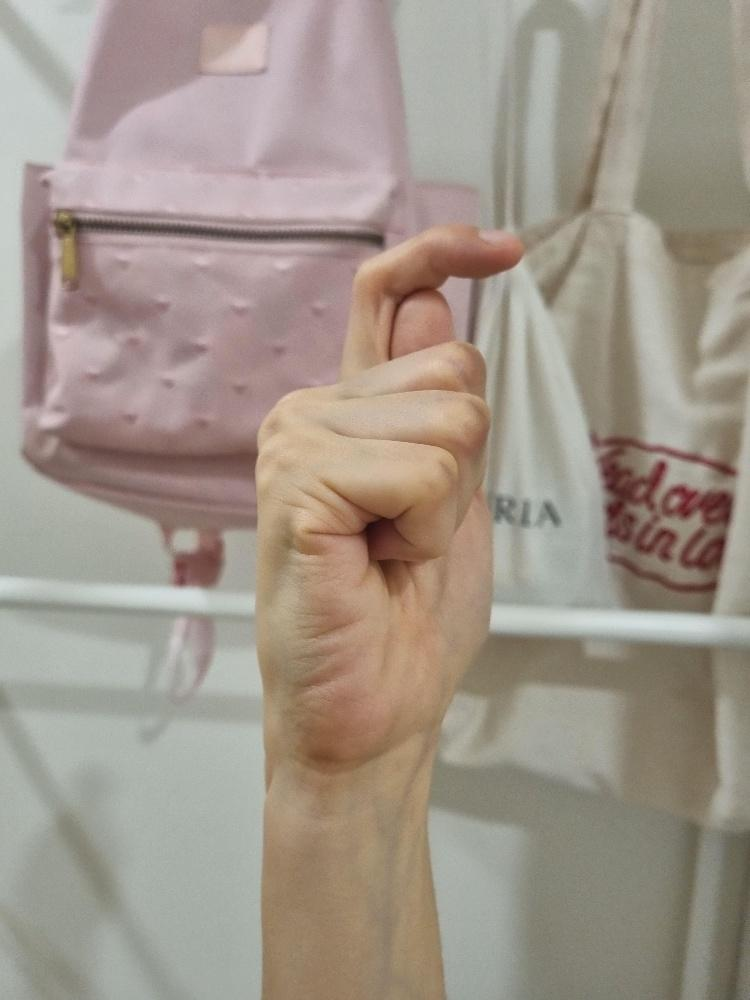t: (252, 219, 527, 766)
